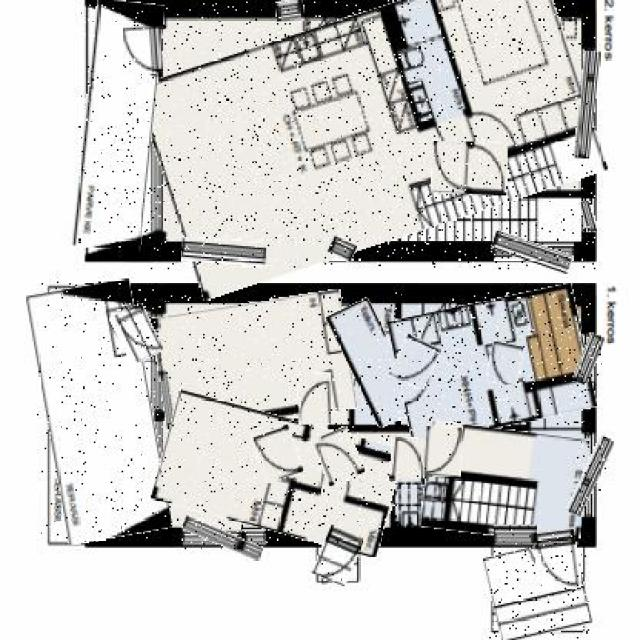door: (432, 142, 508, 196), (534, 531, 578, 591), (255, 426, 300, 482), (316, 429, 362, 483), (315, 528, 360, 583), (114, 306, 158, 362), (394, 337, 437, 388), (123, 28, 163, 74), (425, 428, 460, 477), (298, 374, 331, 424), (390, 437, 424, 481), (488, 343, 522, 386)
window: (574, 435, 606, 517), (492, 237, 572, 268), (182, 523, 264, 552), (182, 240, 266, 268), (577, 51, 598, 158), (577, 334, 601, 384), (494, 524, 537, 544), (329, 238, 357, 260), (276, 0, 304, 20), (582, 200, 596, 232)
zone: (147, 0, 596, 269), (157, 403, 398, 543), (37, 282, 163, 542), (394, 292, 591, 437), (156, 295, 352, 431), (78, 0, 158, 248), (423, 425, 588, 540), (488, 542, 589, 638), (338, 300, 409, 426), (291, 472, 392, 538)
